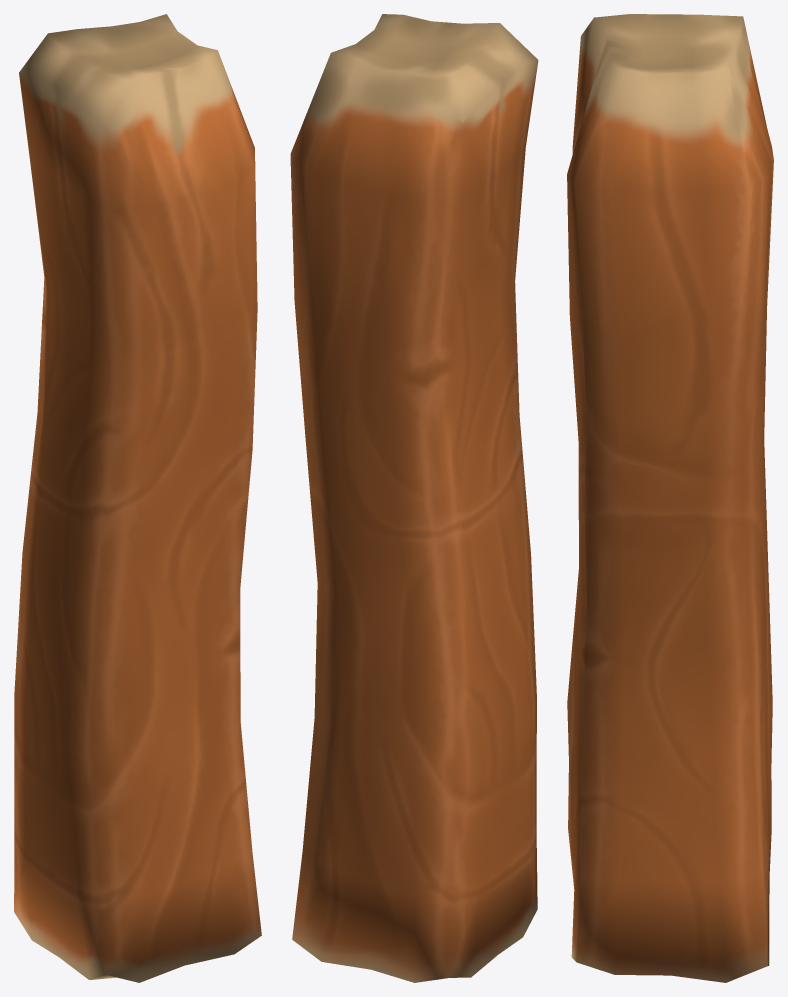
Rendered from fance7.fbx.
3 renders of one model, left to right at view 1: azimuth 30°, elevation 25°; view 2: azimuth 150°, elevation 25°; view 3: azimuth 270°, elevation 25°, orthographic.
Parts seen in each view (by area): view 1: Retopo_Cube.013; view 2: Retopo_Cube.013; view 3: Retopo_Cube.013.
Boxes of the visible parts, bbox=[...] form: Retopo_Cube.013: bbox=[14, 14, 261, 982]; Retopo_Cube.013: bbox=[290, 14, 538, 982]; Retopo_Cube.013: bbox=[567, 14, 773, 982].
Size of the model in its own units: 105 by 500 by 103.
